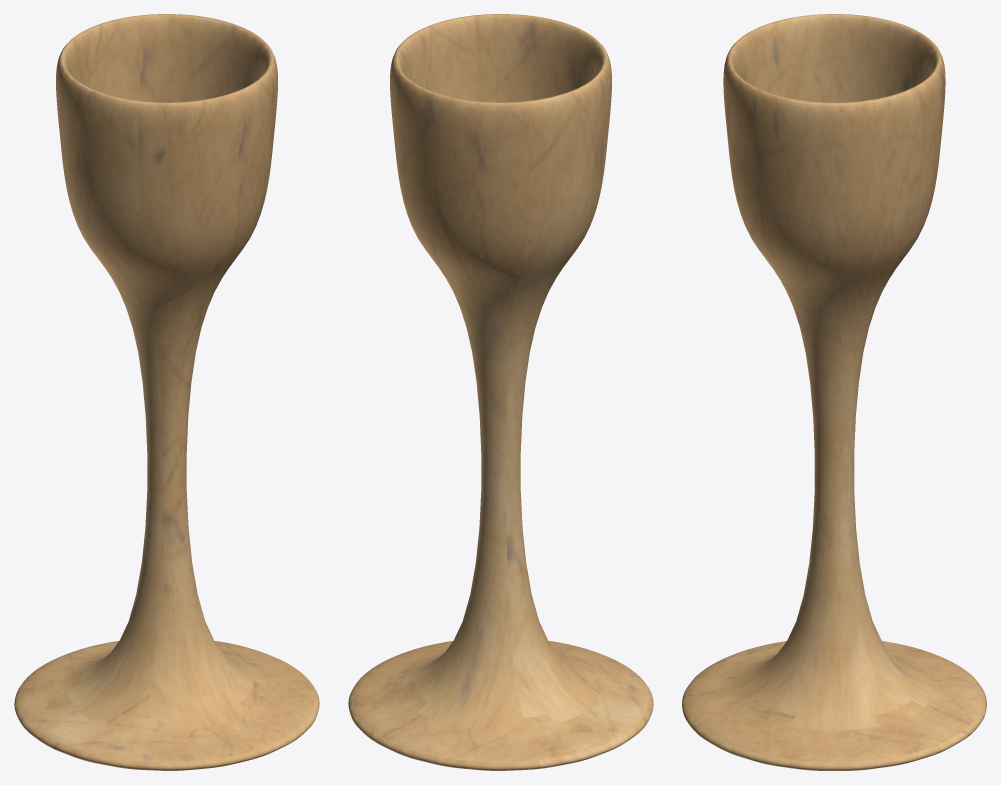
File: WiGss 3.fbx
3 views of the same model, side by side, from view 1: azimuth 30°, elevation 25°; view 2: azimuth 150°, elevation 25°; view 3: azimuth 270°, elevation 25° (orthographic).
Visible parts, largest first — view 1: WiGss_3; view 2: WiGss_3; view 3: WiGss_3.
Part boxes in pixels (x1,y1,x2,y2): WiGss_3: [14, 14, 319, 770]; WiGss_3: [348, 14, 653, 770]; WiGss_3: [682, 14, 986, 770].
Size of the model in its own units: 16.4 by 38.92 by 16.4.
1 material, 1 textured.
